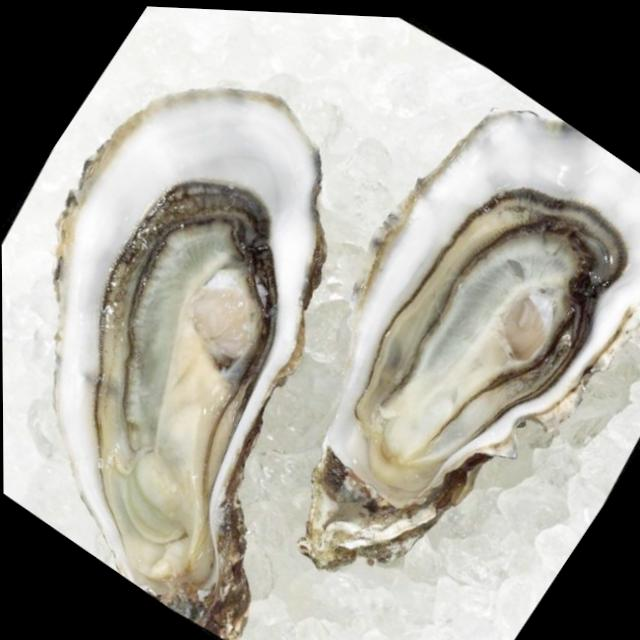Oyster-Open: (302, 110, 640, 574), (49, 88, 326, 640)
